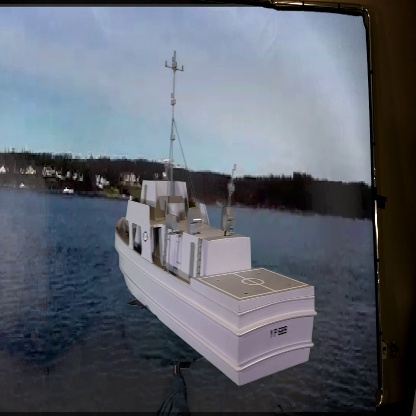YP689: (113, 52, 319, 387)
